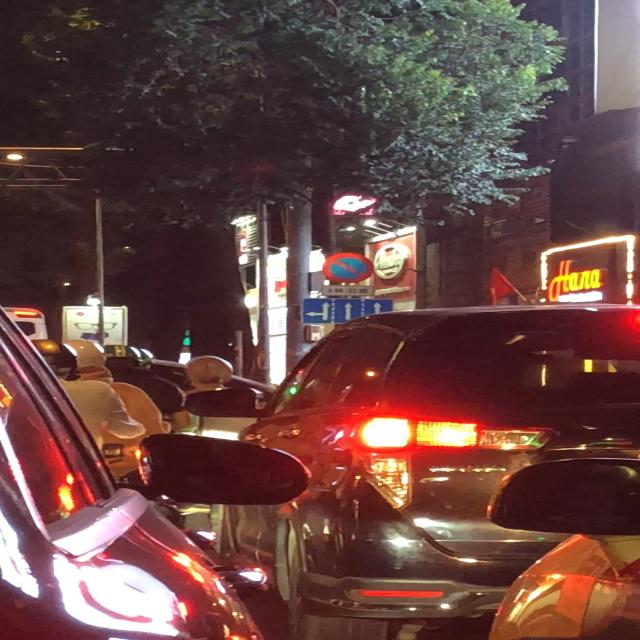Bien bao cam do xe: (318, 250, 377, 285)
